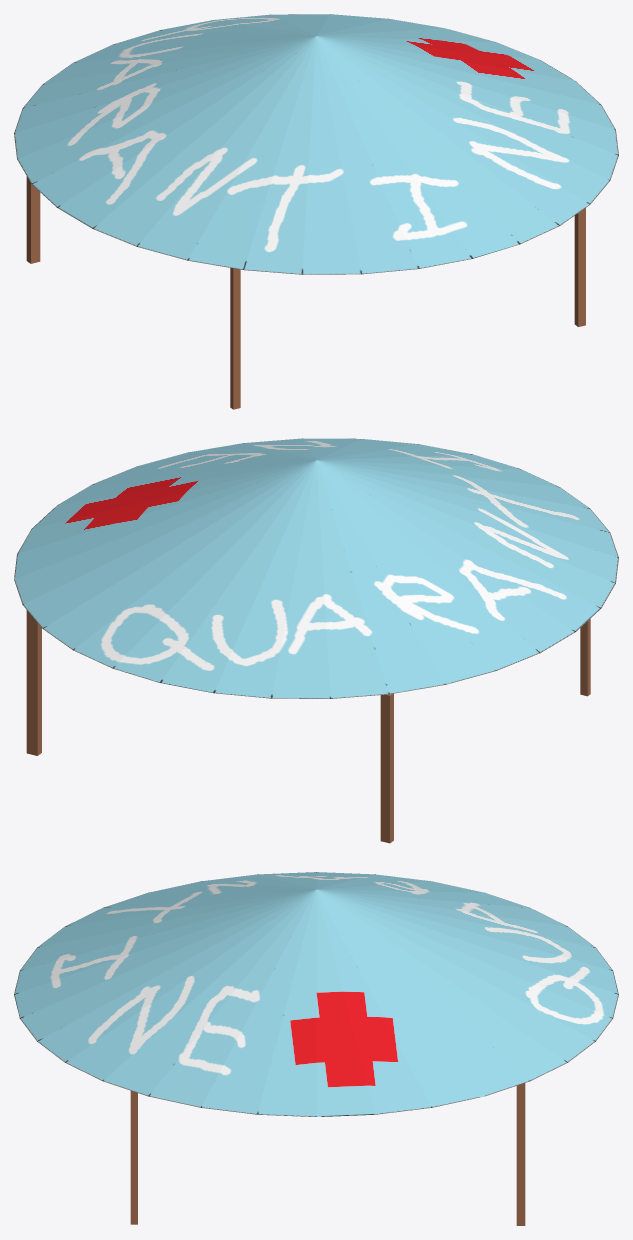
Rendered from tent.obj.
3 renders of one model, top to bottom at view 1: azimuth 30°, elevation 25°; view 2: azimuth 150°, elevation 25°; view 3: azimuth 270°, elevation 25°, orthographic. The views are drawn at different scales.
Parts seen in each view (by area): view 1: Cube; view 2: Cube; view 3: Cube.
Part boxes in pixels (x1,y1,x2,y2): Cube: (14,14,618,409); Cube: (14,438,618,843); Cube: (14,872,618,1225).
Size of the model in its own units: 29.86 by 14.38 by 31.15.
